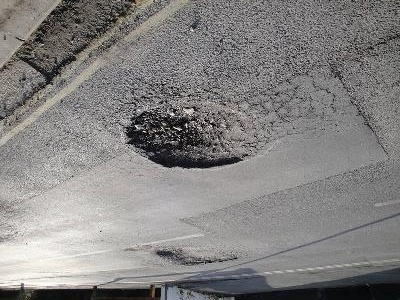pothole: (16, 0, 142, 83), (122, 102, 263, 172), (153, 243, 243, 269)
